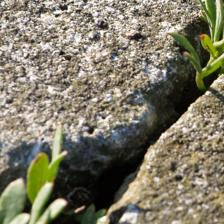Crack: (68, 73, 198, 207)
